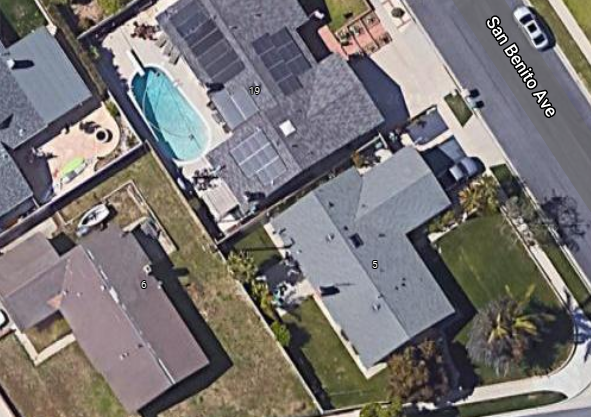poolww: (123, 61, 215, 169)
